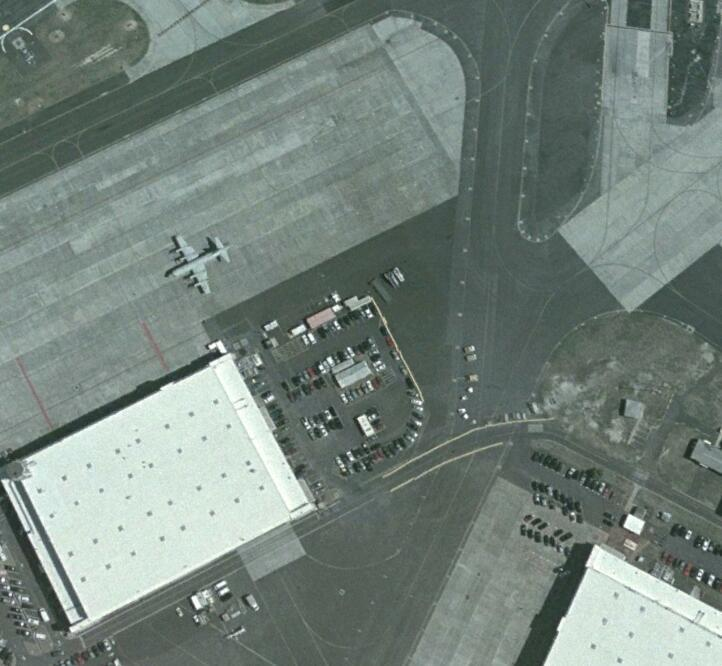A9: (163, 232, 235, 296)
